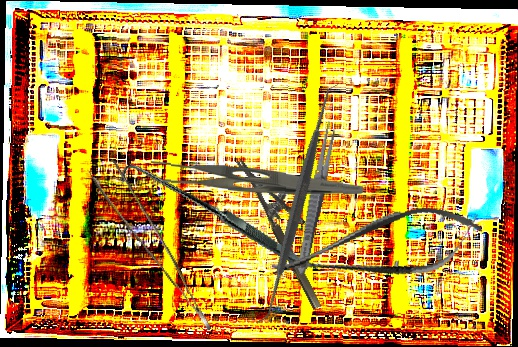Dressing Forceps: (150, 157, 364, 196), (292, 118, 340, 279)
Hook Surgical: (117, 119, 308, 320)
Micro Scissor: (265, 195, 488, 300)
Needle Holder: (235, 146, 343, 311)
Spatula Surgical: (179, 84, 416, 324)
Tissue Forceps: (88, 154, 212, 346)
